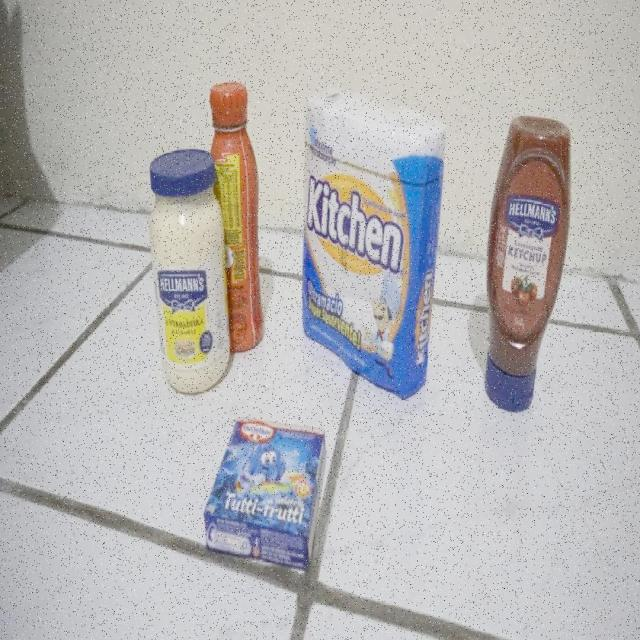ChocolateMilk: (207, 84, 267, 354)
Gelatine: (202, 417, 328, 571)
Ketchup: (484, 115, 573, 416)
Mayonnaise: (149, 146, 231, 393)
Napkin: (300, 85, 448, 398)
